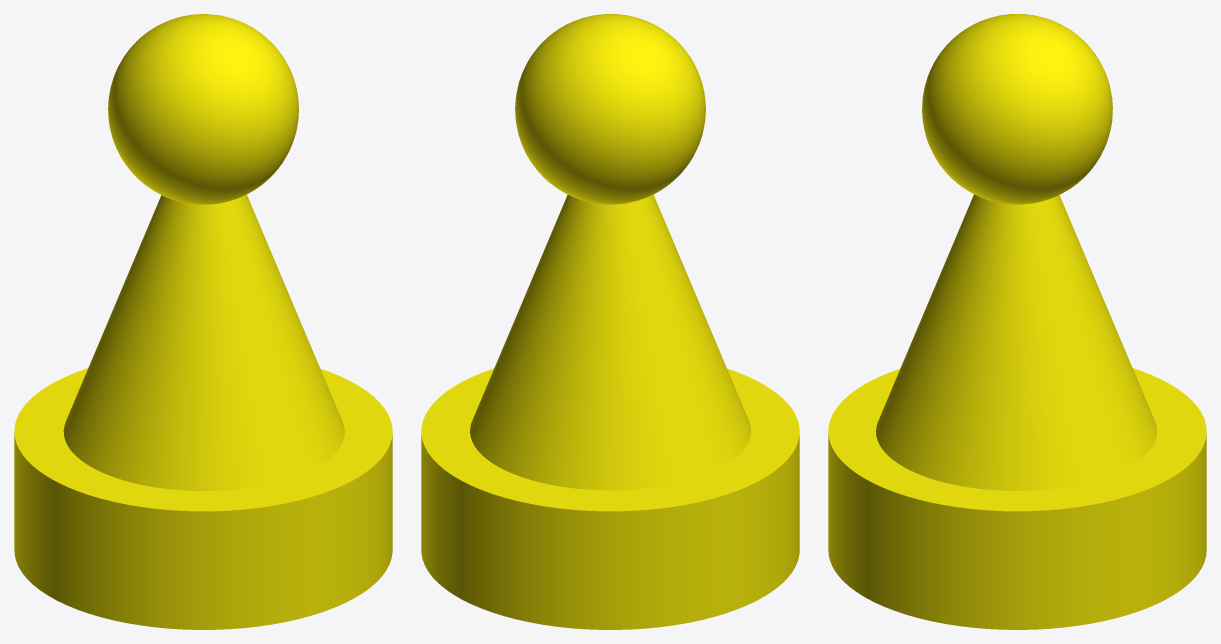
File: pawn.fbx
3 renders of one model, left to right at view 1: azimuth 30°, elevation 25°; view 2: azimuth 150°, elevation 25°; view 3: azimuth 270°, elevation 25°, orthographic.
Visible parts, largest first — view 1: node_id5, node_id7, node_id9; view 2: node_id5, node_id7, node_id9; view 3: node_id5, node_id7, node_id9.
Part boxes in pixels (x1,y1,x2,y2): node_id5: [14, 368, 392, 629]; node_id7: [63, 194, 344, 490]; node_id9: [108, 14, 298, 204]; node_id5: [421, 368, 799, 629]; node_id7: [470, 194, 750, 490]; node_id9: [515, 14, 705, 204]; node_id5: [828, 368, 1206, 629]; node_id7: [876, 194, 1157, 490]; node_id9: [922, 14, 1112, 204].
Size of the model in its own units: 0.333 by 0.512 by 0.333.
3 materials, 3 textured.
